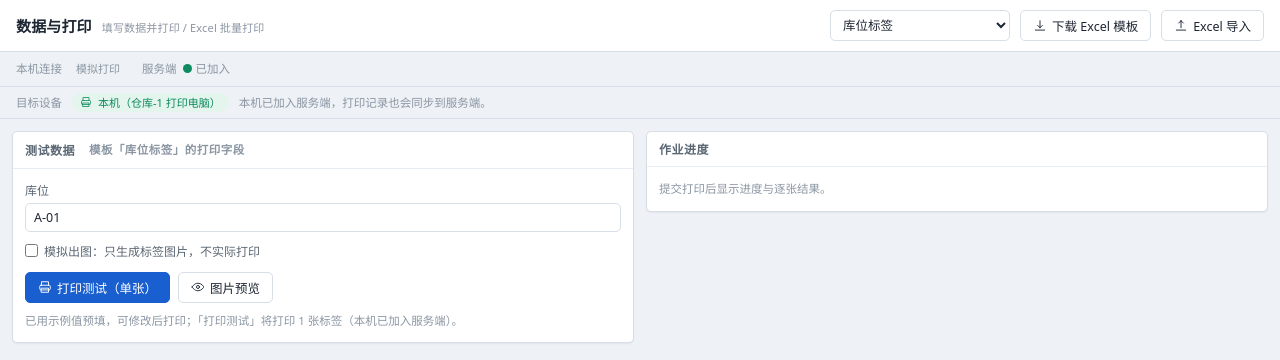
打印页称谓与作业进度设备名（迭代 84 · #132） › AC-02 回退：作业目标设备无可解析名称（不在设备列表）→ 显示设备 ID
The image size is (1280, 360).
Expected: the field showing "A-01" is shown, top-left (25, 203), bottom-right (621, 232)
Expected: the text "本机（仓库-1 打印电脑）" is shown, top-left (72, 93), bottom-right (229, 112)
Click the button "打印测试（单张）": (98,287) top-left (25, 272), bottom-right (170, 303)
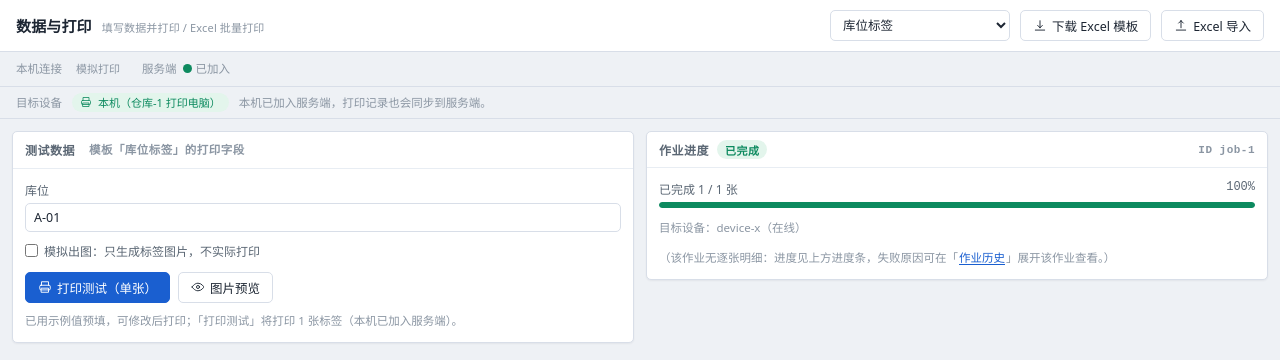
Now the text "已完成 1 / 1 张" is shown, box top-left (659, 180), bottom-right (738, 198)
Now the text "目标设备：device-x（在线）" is shown, box top-left (659, 220), bottom-right (806, 235)
